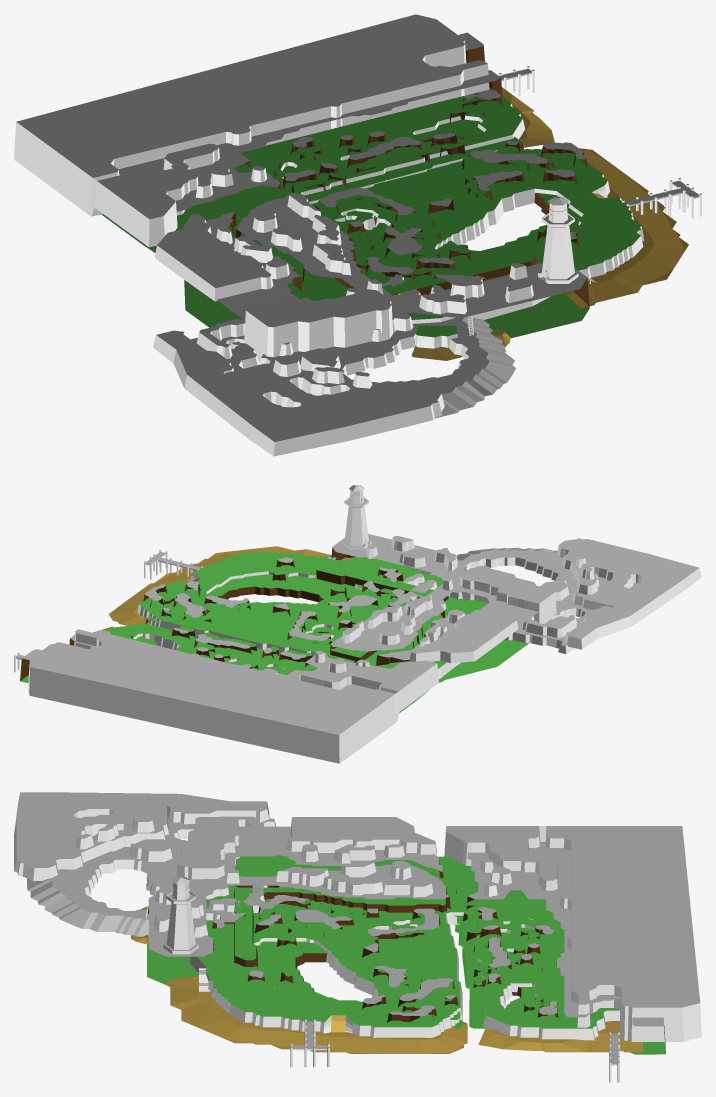
File: new_old_map.glb
3 views of the same model, one above another, from view 1: azimuth 30°, elevation 25°; view 2: azimuth 150°, elevation 25°; view 3: azimuth 270°, elevation 25° (orthographic). The views are drawn at different scales.
Visible parts, largest first — view 1: expanded_main, main001, Plane, lighthouse, docks; view 2: expanded_main, main001, Plane, lighthouse, docks; view 3: expanded_main, main001, Plane, lighthouse, docks.
Part boxes in pixels (<box>): expanded_main: <box>14,14,688,360</box>; main001: <box>153,274,515,456</box>; Plane: <box>231,93,581,295</box>; lighthouse: <box>538,196,578,283</box>; docks: <box>499,66,701,218</box>; expanded_main: <box>20,534,556,763</box>; main001: <box>402,538,701,653</box>; Plane: <box>118,565,448,675</box>; lighthouse: <box>342,485,371,549</box>; docks: <box>14,550,202,672</box>; expanded_main: <box>131,817,701,1054</box>; main001: <box>14,792,276,936</box>; Plane: <box>234,887,564,1028</box>; lighthouse: <box>163,877,198,954</box>; docks: <box>290,1019,619,1082</box>.
Bounding box in the file's own units: 170 × 34.1 × 192.
